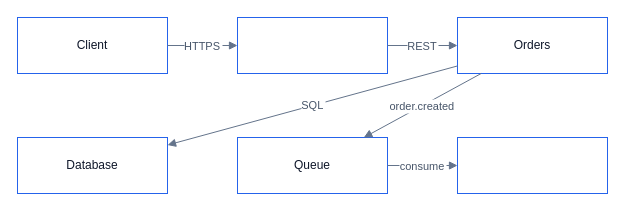
Some shapes in this 625 by 211 pixel diagram are drawn without their labels. Here are the shapes that lost their labels. From the top down, the centre of each, then its label:
At [312,45]: "Gateway".
At [532,165]: "Worker".
